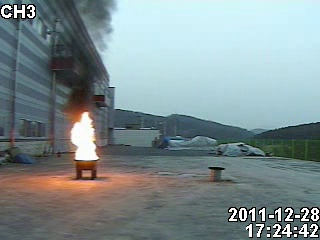fire: (70, 110, 98, 162)
